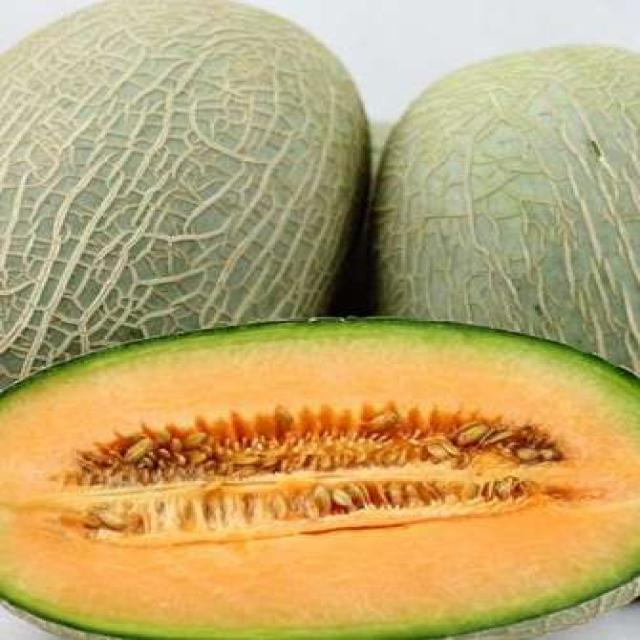Hami Melon: (0, 317, 640, 640), (0, 0, 369, 393), (370, 46, 640, 401)
